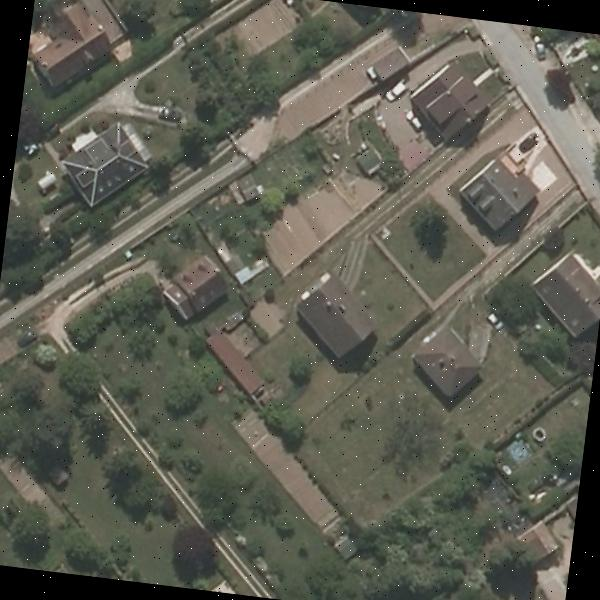Buildings: (24, 0, 134, 94), (287, 266, 388, 354), (409, 54, 492, 138), (406, 325, 496, 401), (536, 250, 600, 332), (74, 132, 146, 202), (472, 158, 539, 228), (232, 0, 288, 56), (213, 334, 268, 387), (170, 256, 225, 308), (520, 526, 560, 566), (357, 148, 380, 164)
